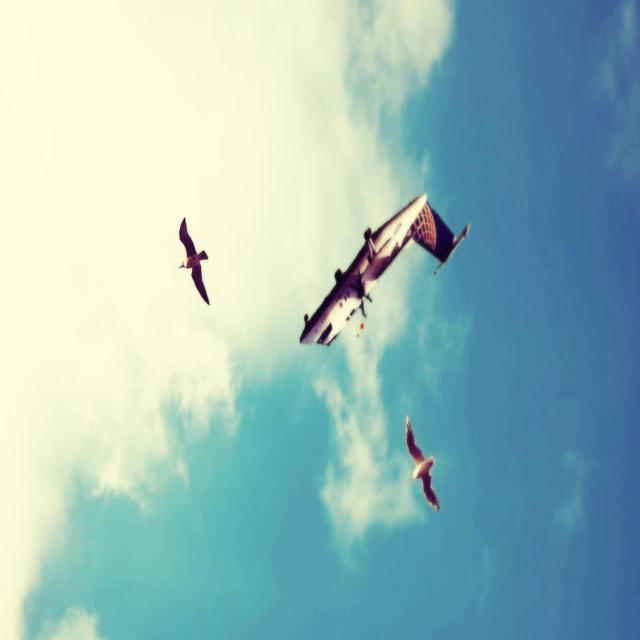airplane: (299, 192, 470, 347)
